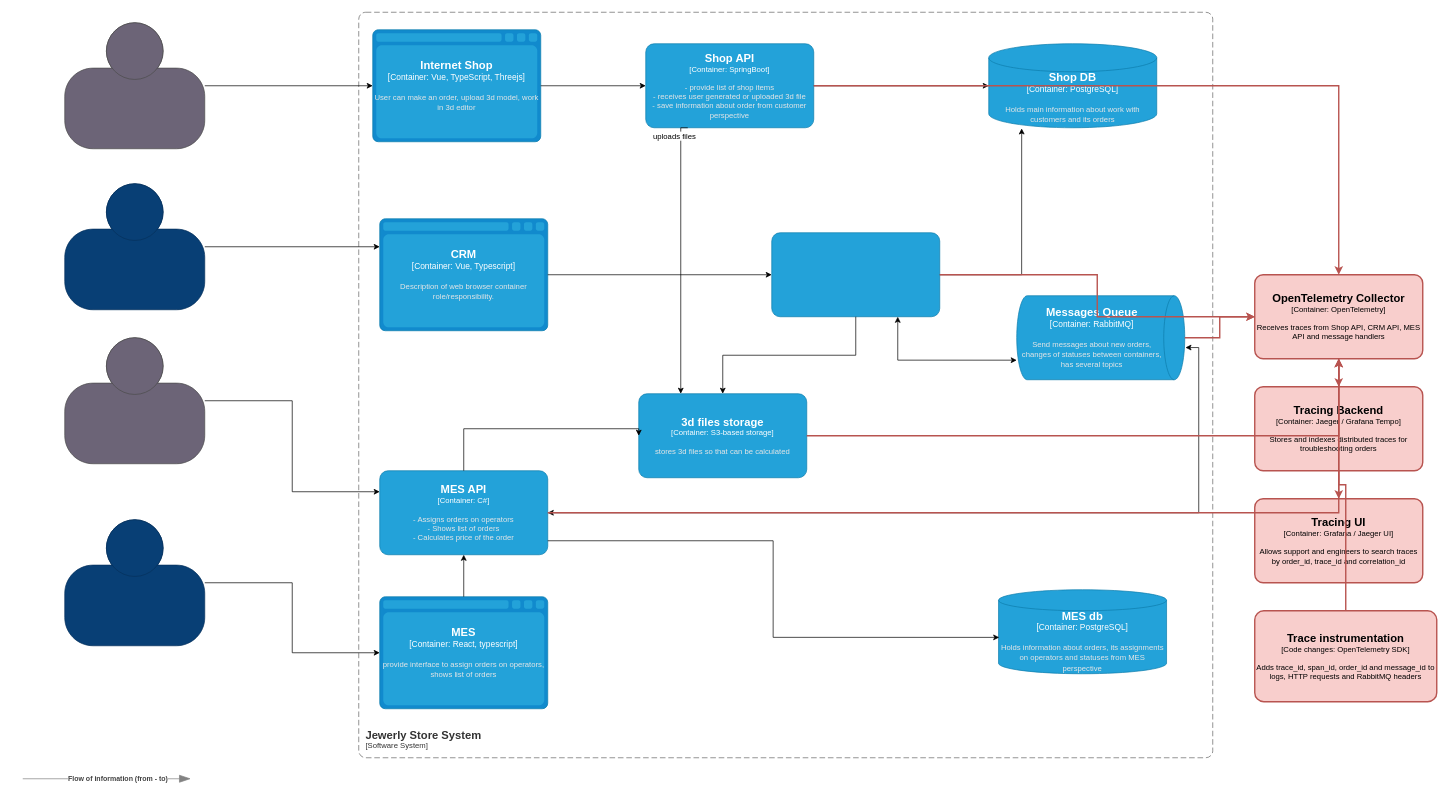
This 1450x802 diagram has some shape labels left out. The centre of each missing label's shape, as x and y in pixels:
"API user [Person] Description of external person." goes at (x=134, y=400).
"CRM API [Container: SpringBoot] Description of container role/responsibility." goes at (x=855, y=274).
"Customer [Person] Description of external person." goes at (x=134, y=85).
"Operator [Person] Takes order in work, manufactures jewerly" goes at (x=134, y=582).
"Seller [Person] Operates with order, confirms manufacturing for the user" goes at (x=134, y=246).
